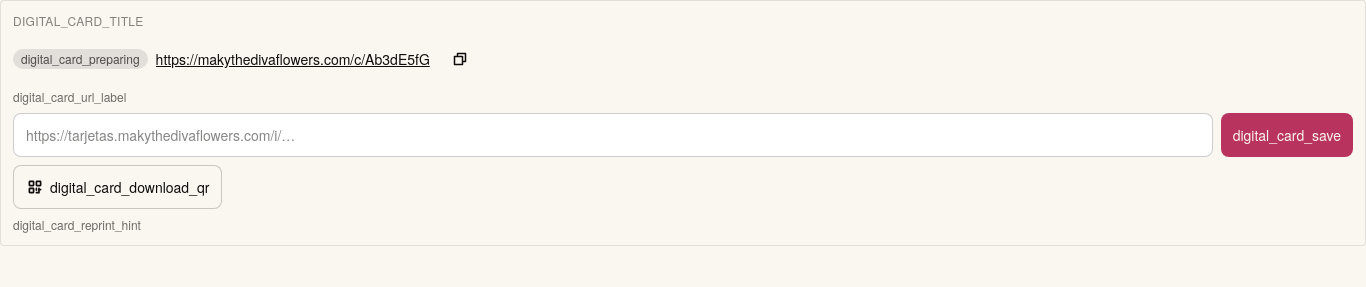
DigitalCardSection › shows the invalid-url error on 400
This screenshot has width=1366, height=287.
Type "https://evil.example.com" into the field labelled "digital_card_url_label" at coordinates (613, 135), box x1=13 y1=113 x2=1213 y2=157
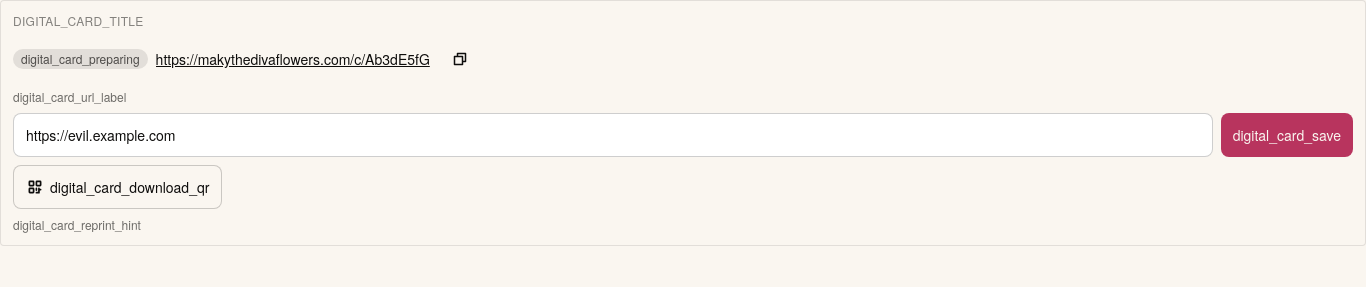
Click the button "digital_card_save" at coordinates (1287, 135), box x1=1221 y1=113 x2=1353 y2=157
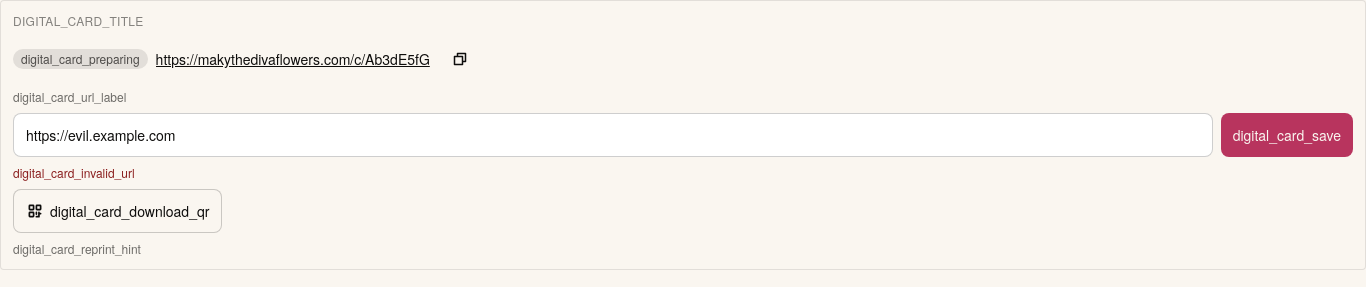
Now the message reads "digital_card_invalid_url", box x1=13 y1=164 x2=135 y2=181
